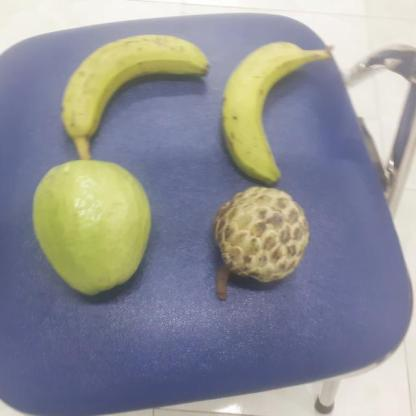annona: (212, 182, 312, 283)
banana: (55, 33, 210, 144), (222, 35, 332, 186)
guava: (27, 154, 156, 298)
